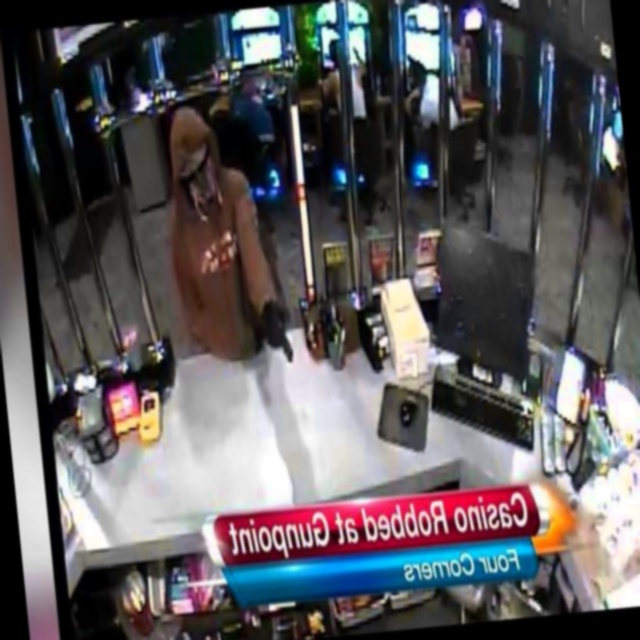gun: (243, 284, 300, 391)
